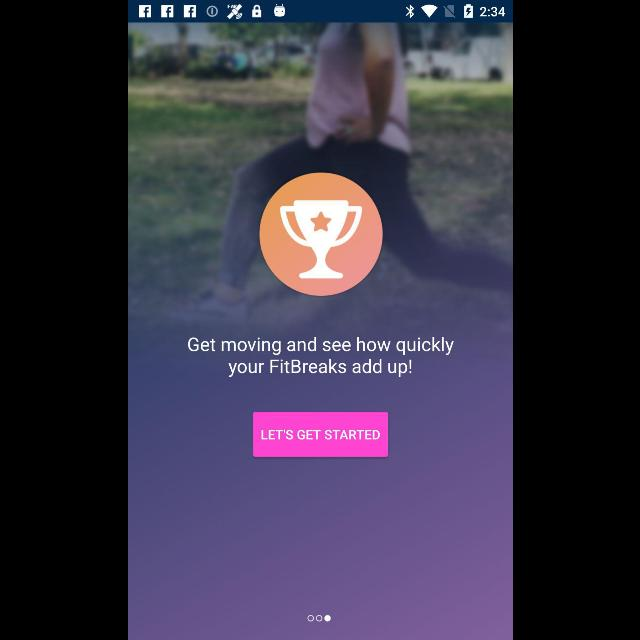backgroundimage: (128, 22, 512, 640)
image: (258, 173, 382, 297)
pageindicator: (306, 614, 330, 622)
text: (187, 337, 453, 378)
textbutton: (252, 412, 388, 456)
uppertaskbar: (128, 1, 512, 23)
